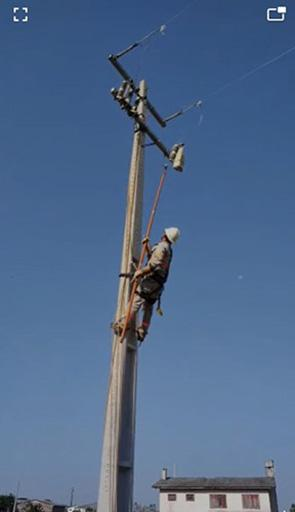Vara_Manobra: (120, 167, 169, 341)
